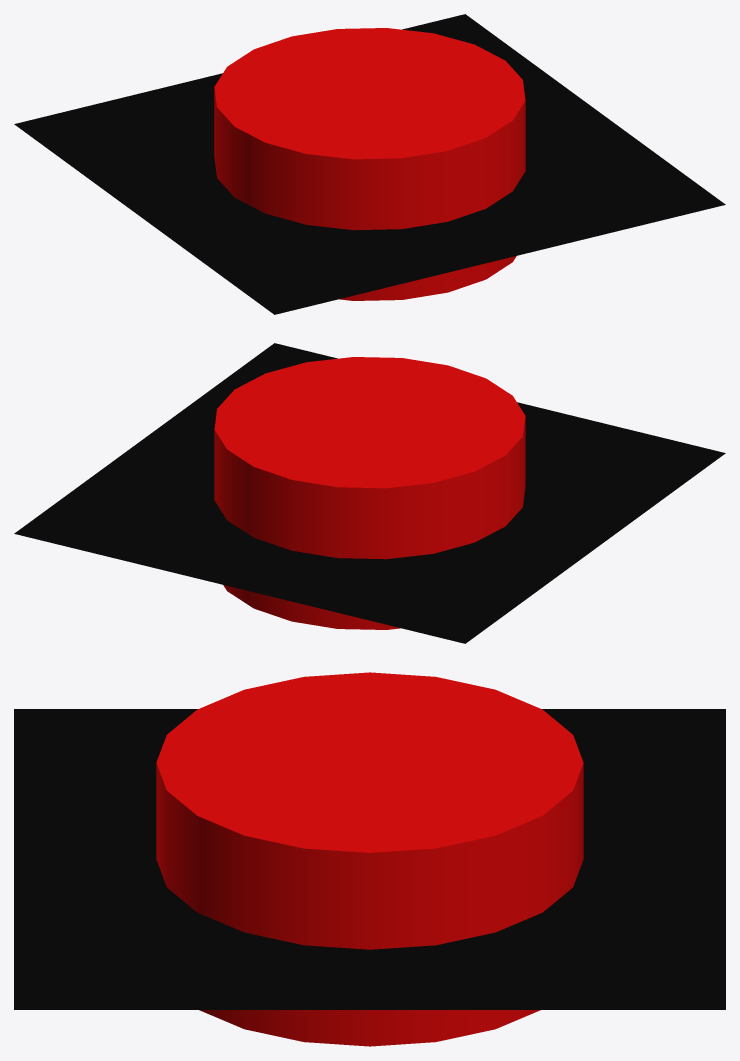
The model's file is Button.fbx.
3 renders of one model, top to bottom at view 1: azimuth 30°, elevation 25°; view 2: azimuth 150°, elevation 25°; view 3: azimuth 270°, elevation 25°, orthographic. The views are drawn at different scales.
Visible parts, largest first — view 1: pPlane1, pCylinder1; view 2: pPlane1, pCylinder1; view 3: pPlane1, pCylinder1.
Part boxes in pixels (left/top/right/bottom): pPlane1: left=14, top=14, right=725, bottom=314; pCylinder1: left=214, top=28, right=525, bottom=300; pPlane1: left=14, top=343, right=725, bottom=643; pCylinder1: left=214, top=357, right=525, bottom=629; pPlane1: left=14, top=709, right=725, bottom=1009; pCylinder1: left=156, top=672, right=583, bottom=1046.
Bounding box in the file's own units: 1 × 0.3 × 1.
